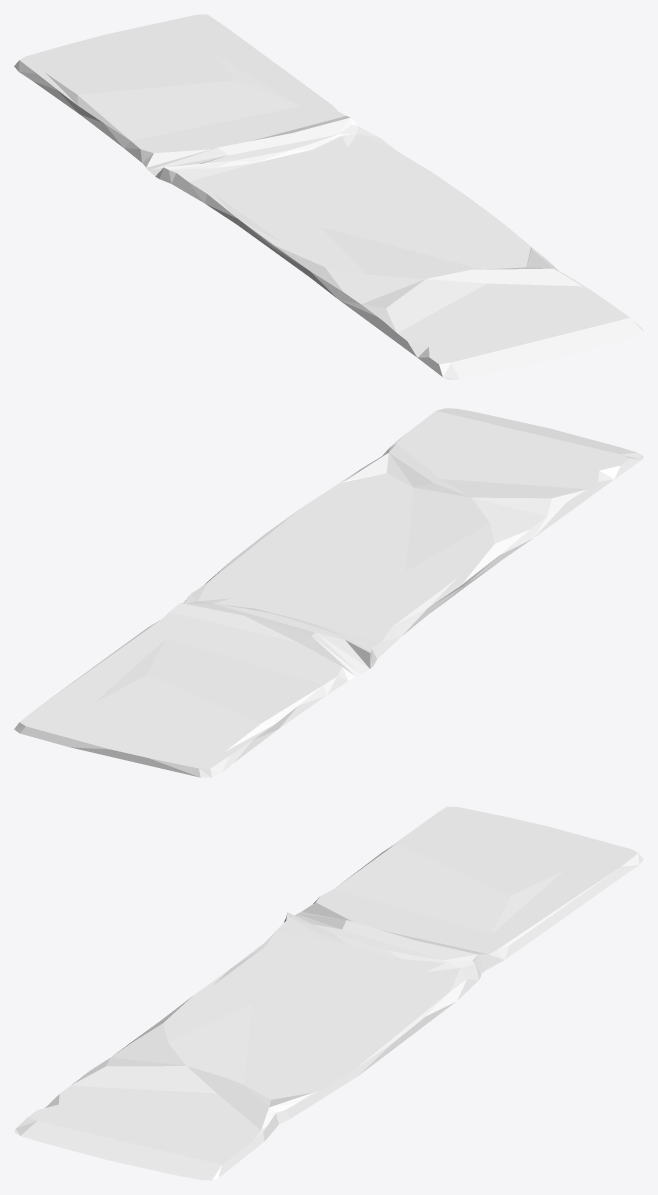
The model's file is Rug 1.fbx.
The picture shows the model from 3 angles, top to bottom: view 1: azimuth 30°, elevation 25°; view 2: azimuth 150°, elevation 25°; view 3: azimuth 330°, elevation 25°; orthographic projection.
Parts seen in each view (by area): view 1: Rug 1; view 2: Rug 1; view 3: Rug 1.
Boxes of the visible parts, box(x1,y1,x2,y2) form: Rug 1: box(14, 14, 643, 379); Rug 1: box(14, 408, 643, 777); Rug 1: box(14, 806, 643, 1180).
Size of the model in its own units: 1393 by 103 by 5057.
Materials: 1 (1 with a texture image).
